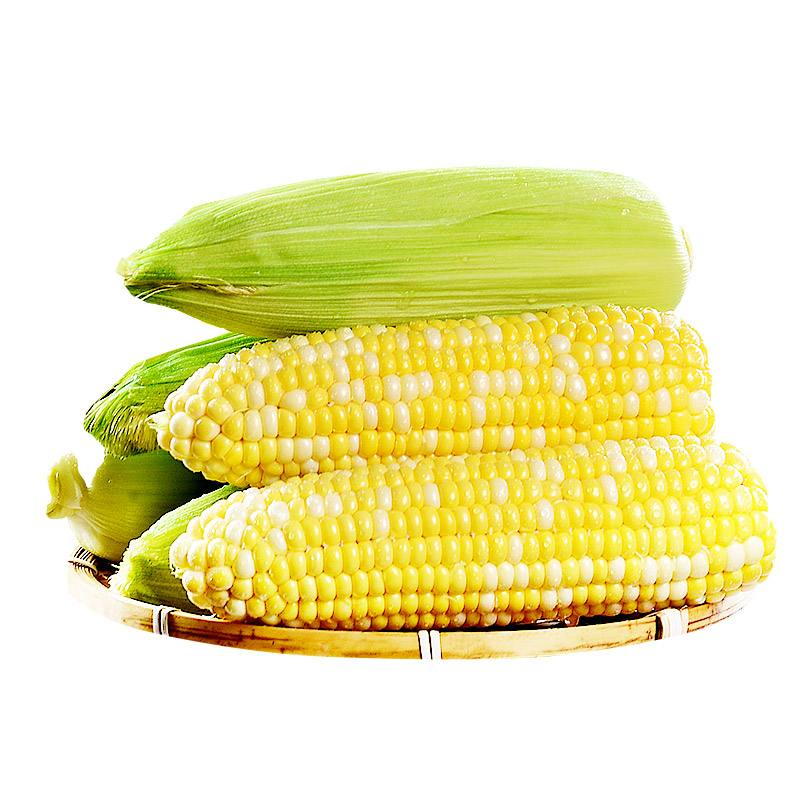corn: (155, 305, 714, 487), (193, 451, 771, 613)
corn_plant: (124, 169, 703, 314)
